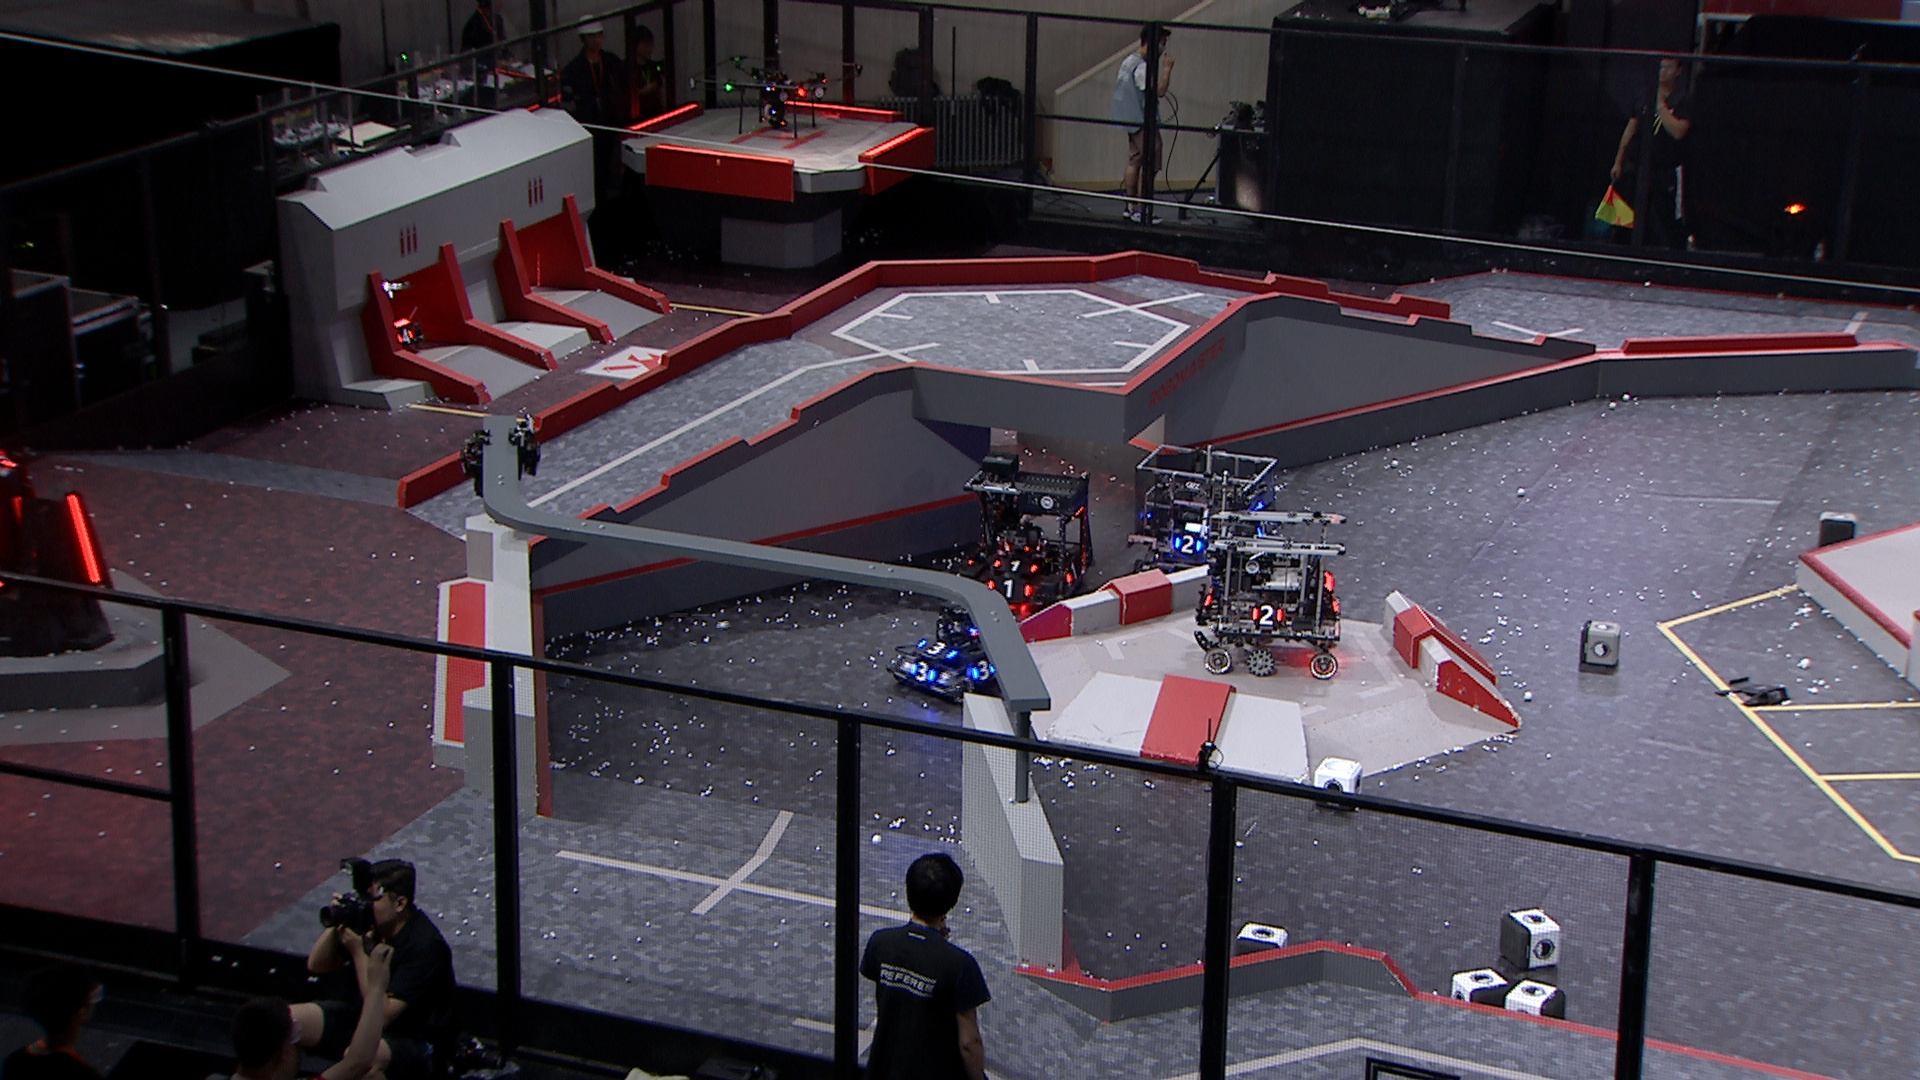armor: (59, 491, 105, 588), (982, 576, 1034, 600), (915, 638, 959, 661), (992, 556, 1040, 575), (1171, 533, 1207, 556), (1250, 603, 1284, 626), (969, 657, 996, 683), (909, 661, 938, 683), (1063, 560, 1081, 585), (394, 328, 415, 347)
car: (1191, 505, 1352, 679), (1125, 444, 1278, 585), (960, 465, 1095, 616), (884, 600, 1022, 702), (343, 284, 429, 361)
watcher: (460, 413, 541, 501)
